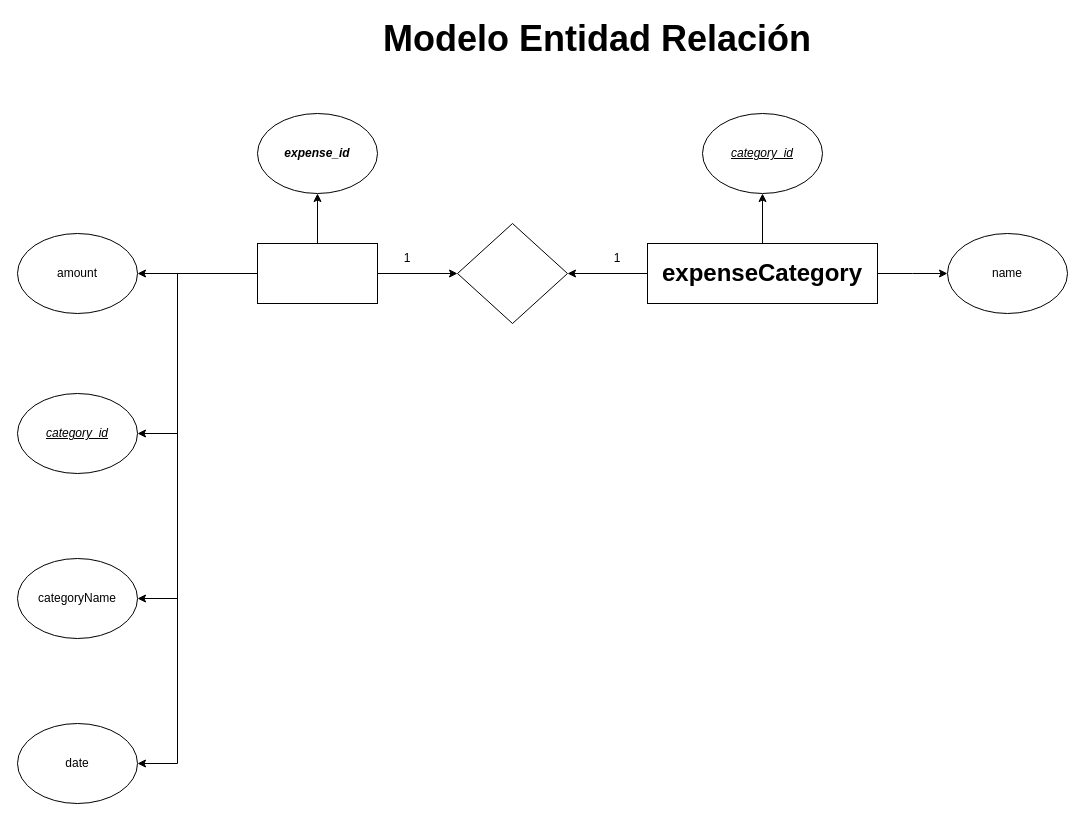
This 1085x821 diagram has some shape labels left out. The shapes that lost their labels are listed below. From the top down, each one's centre as x and y in pixels, then its label:
At [317,273]: "expense".
At [512,273]: "pertenece".
